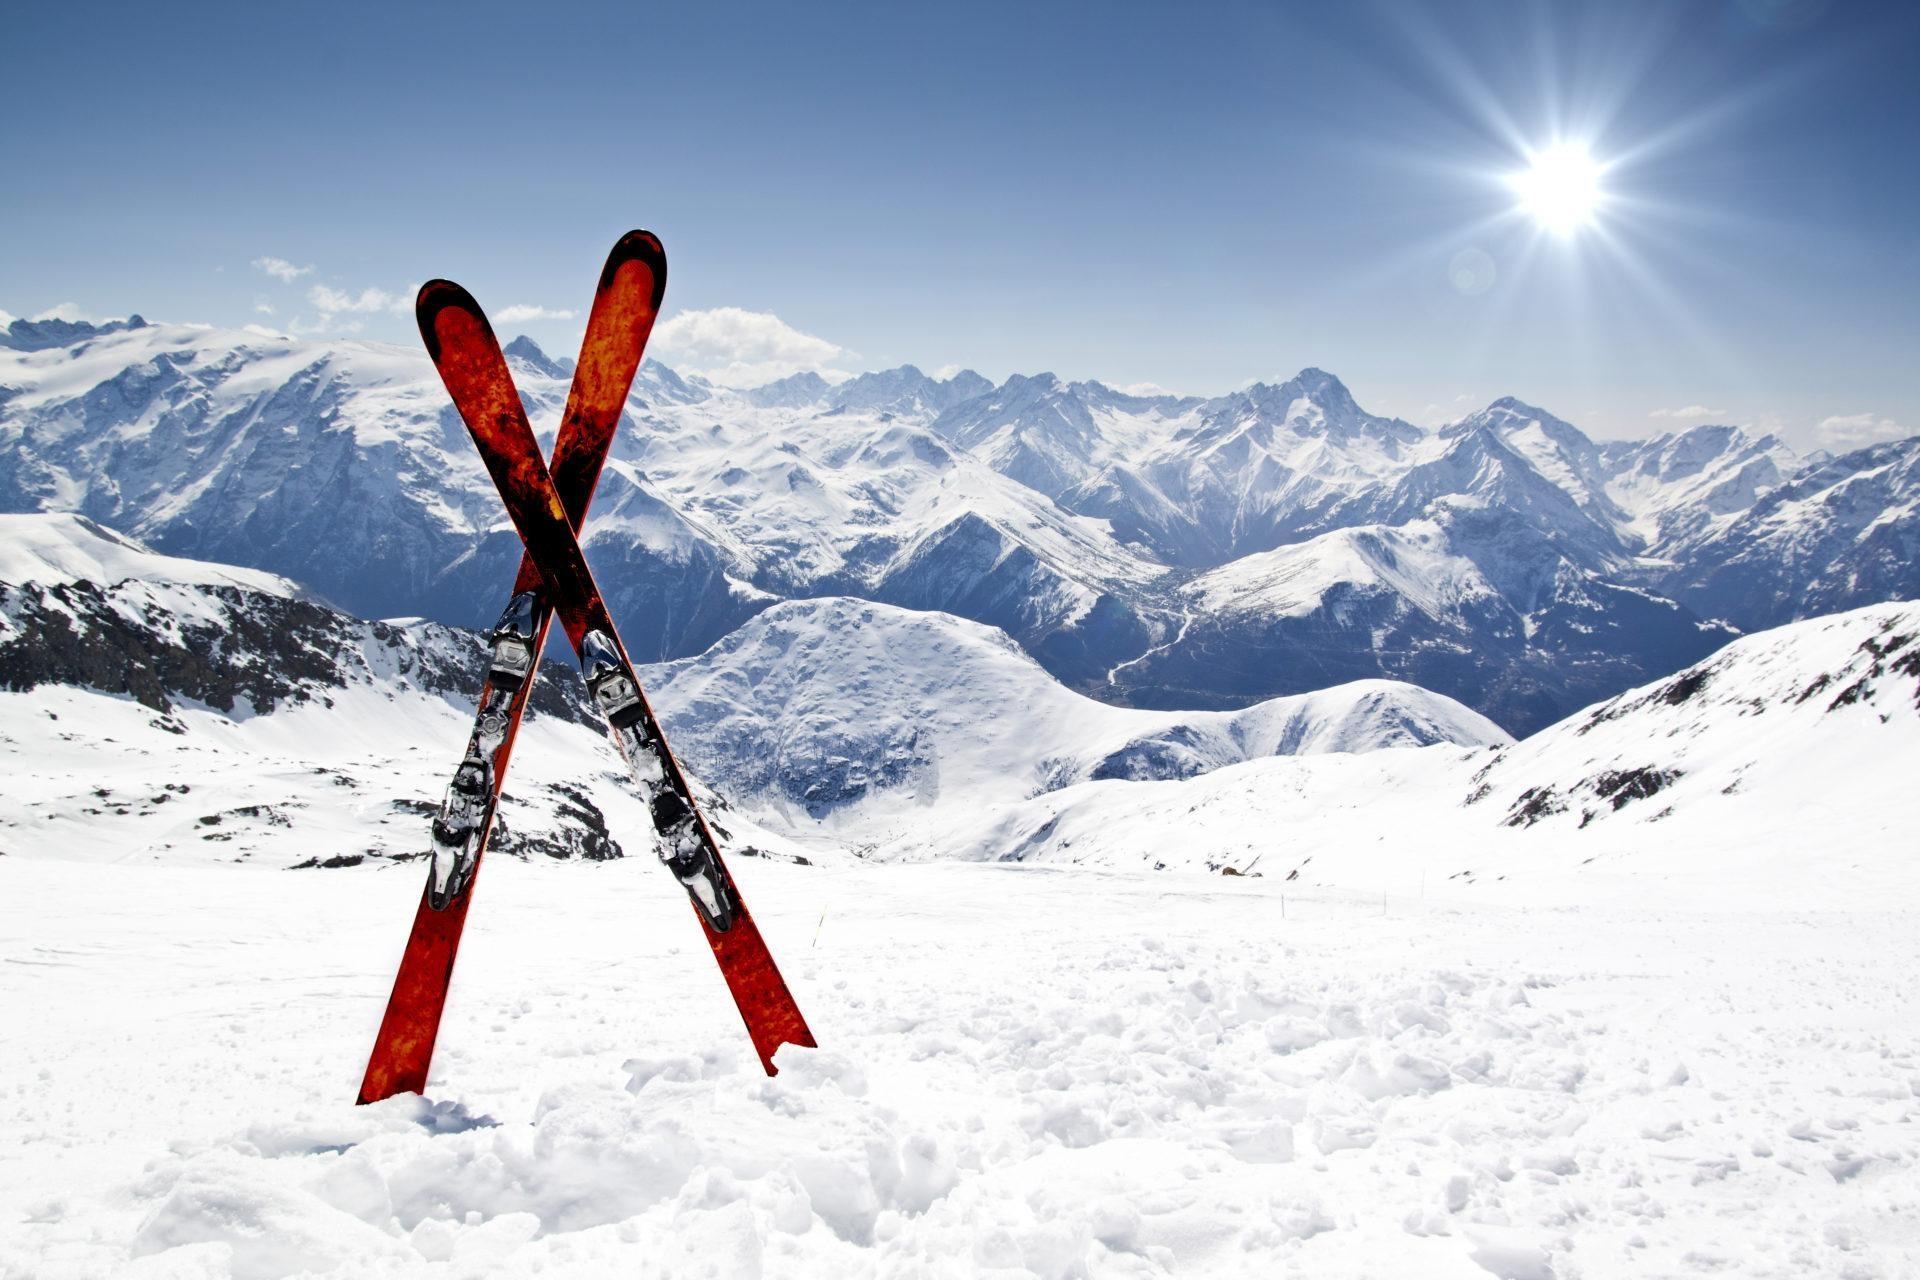Skis: (390, 259, 841, 1089), (340, 200, 701, 1136)
